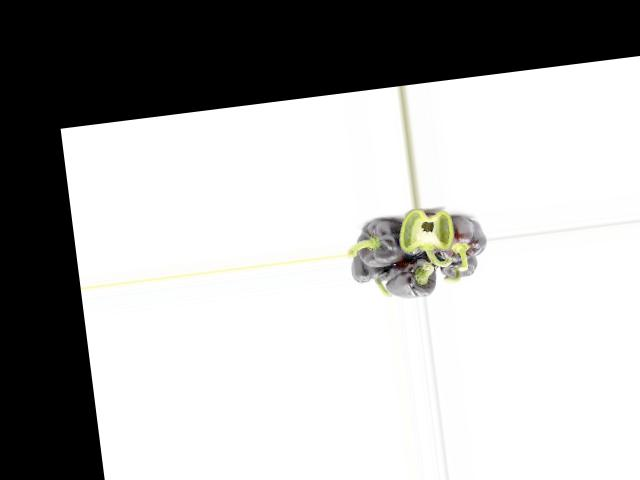bell_pepper: (426, 215, 487, 264)
